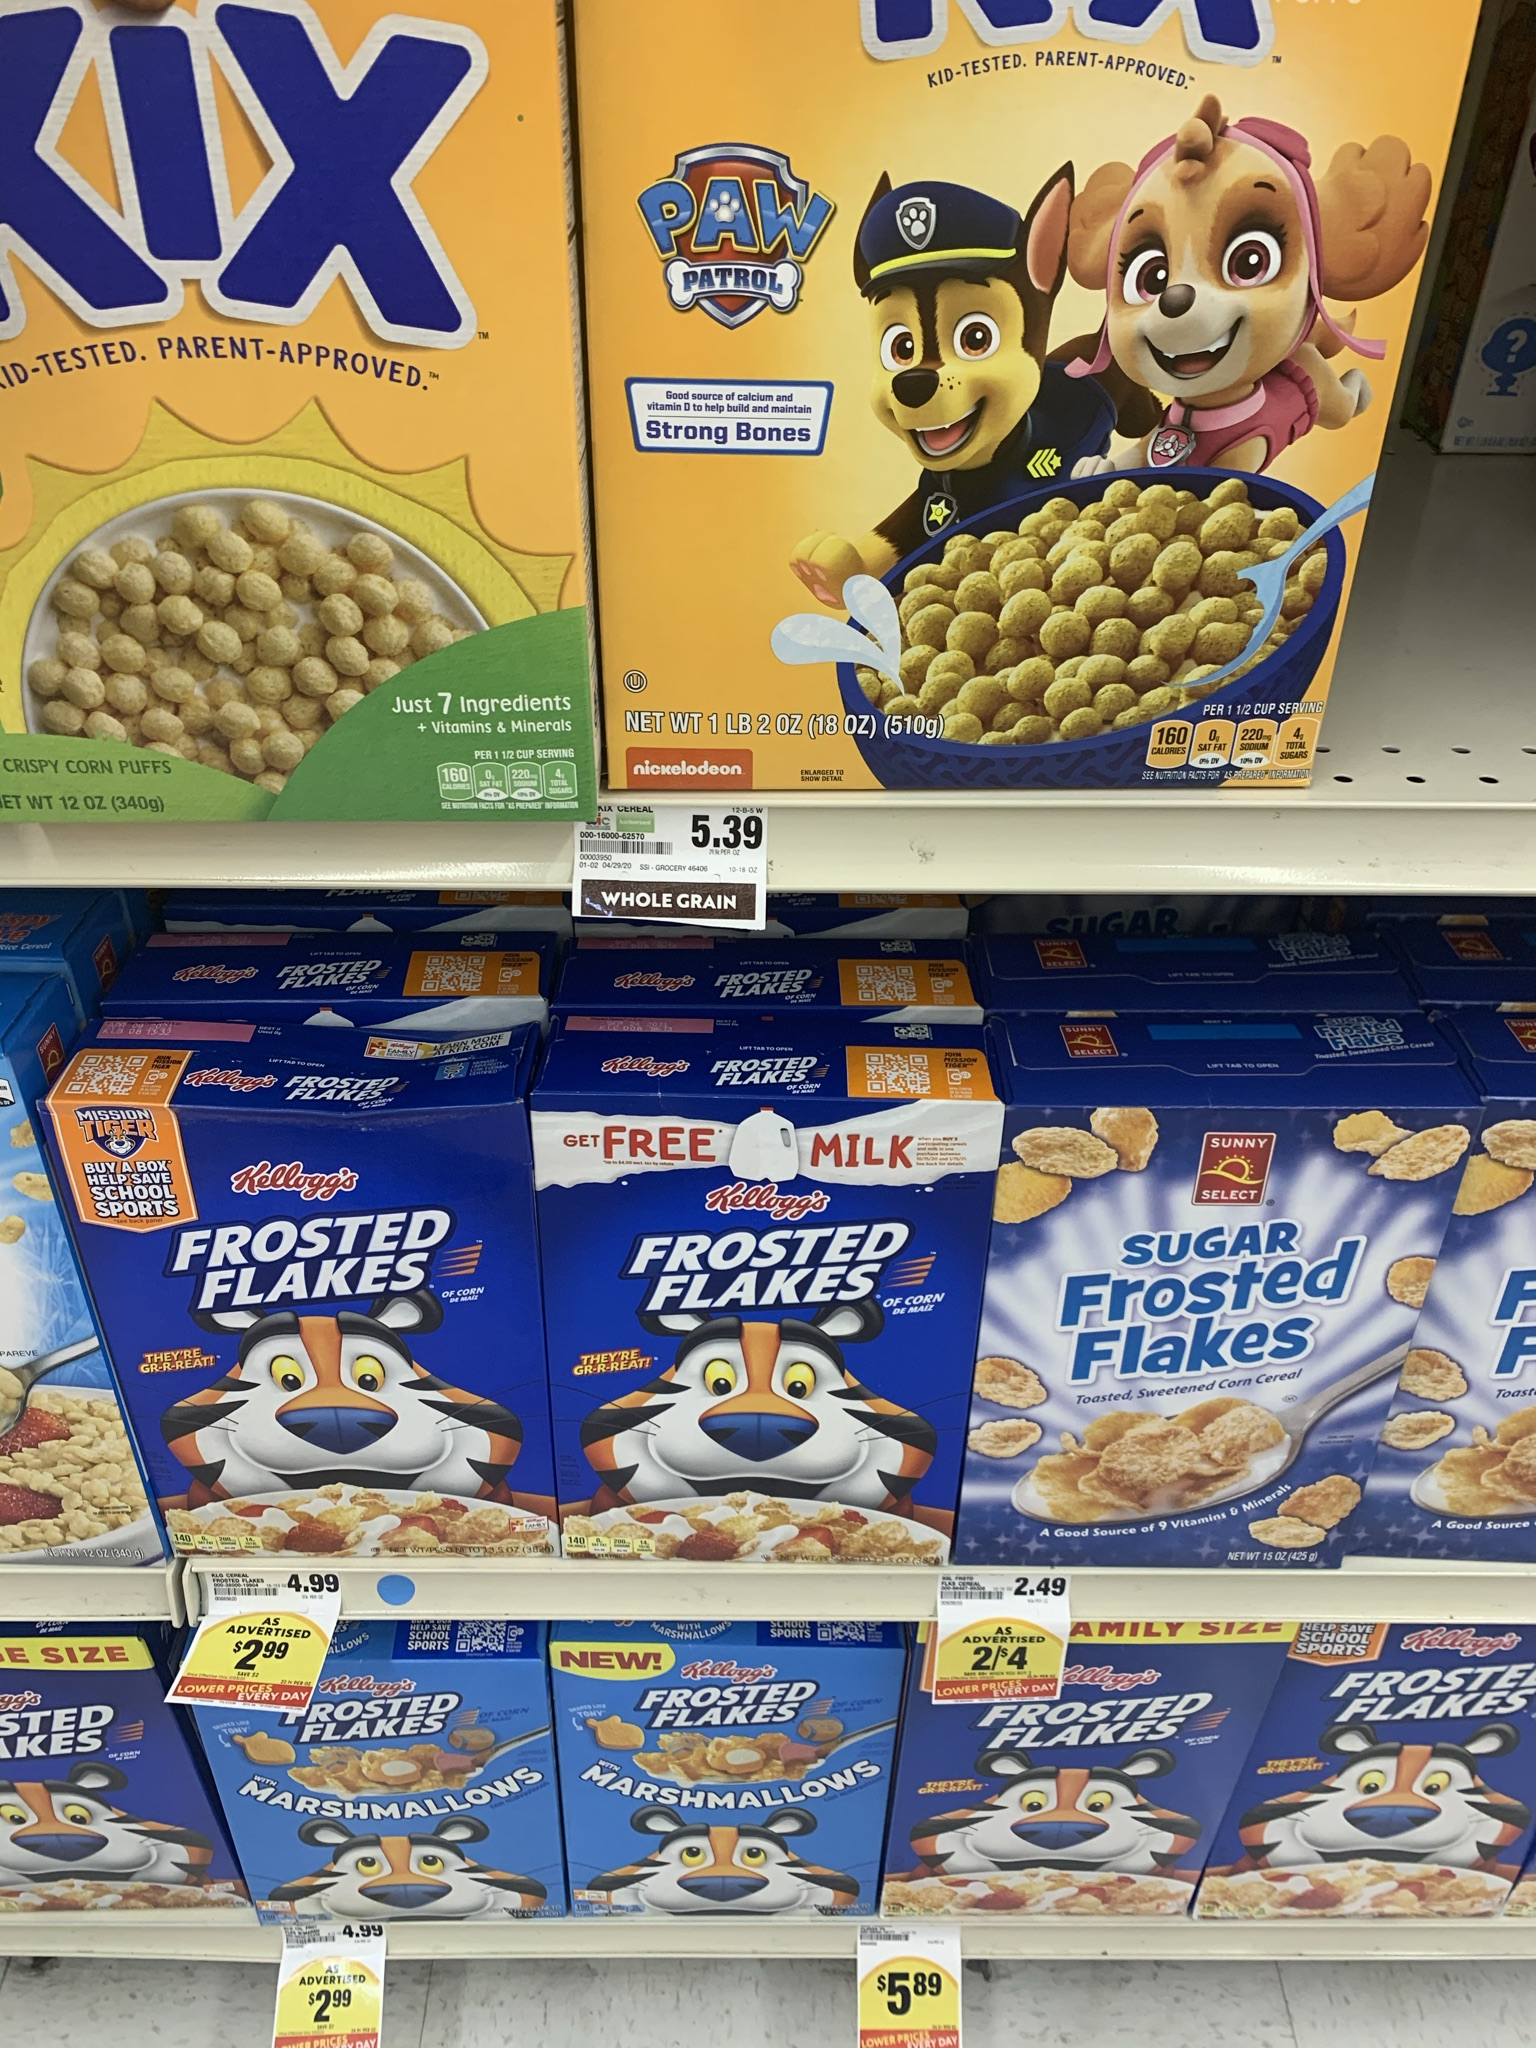box: (594, 2, 1302, 777), (2, 2, 582, 818), (570, 1118, 950, 1572), (186, 1118, 516, 1553), (1023, 1130, 1346, 1555), (565, 1664, 878, 1908), (221, 1716, 542, 1909), (931, 1706, 1200, 1917), (1289, 1658, 1504, 1908)
